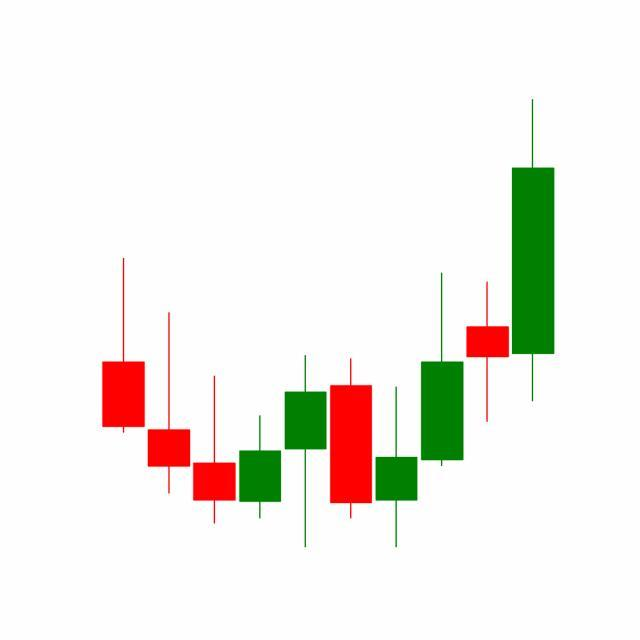Hikkake Pattern: (283, 269, 512, 548)
